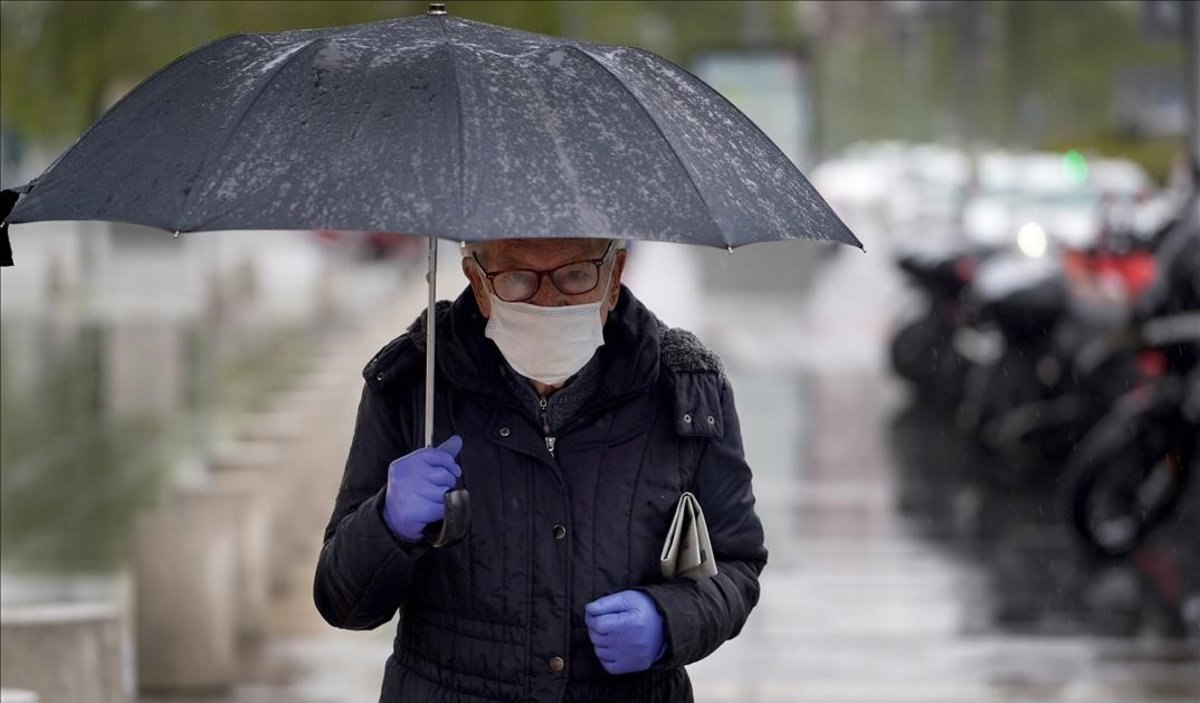with_mask: (449, 227, 637, 376)
